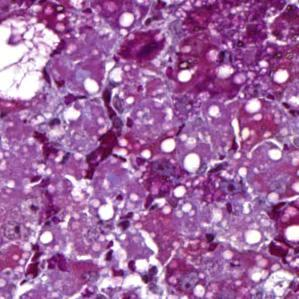ballooning: (0, 10, 61, 104)
